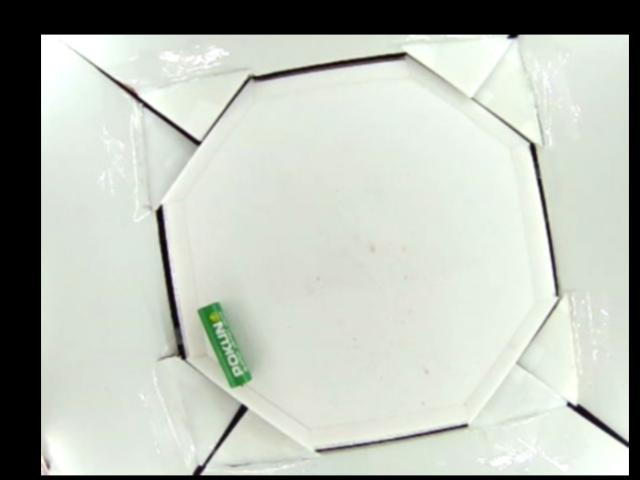Battery: (199, 301, 252, 390)
